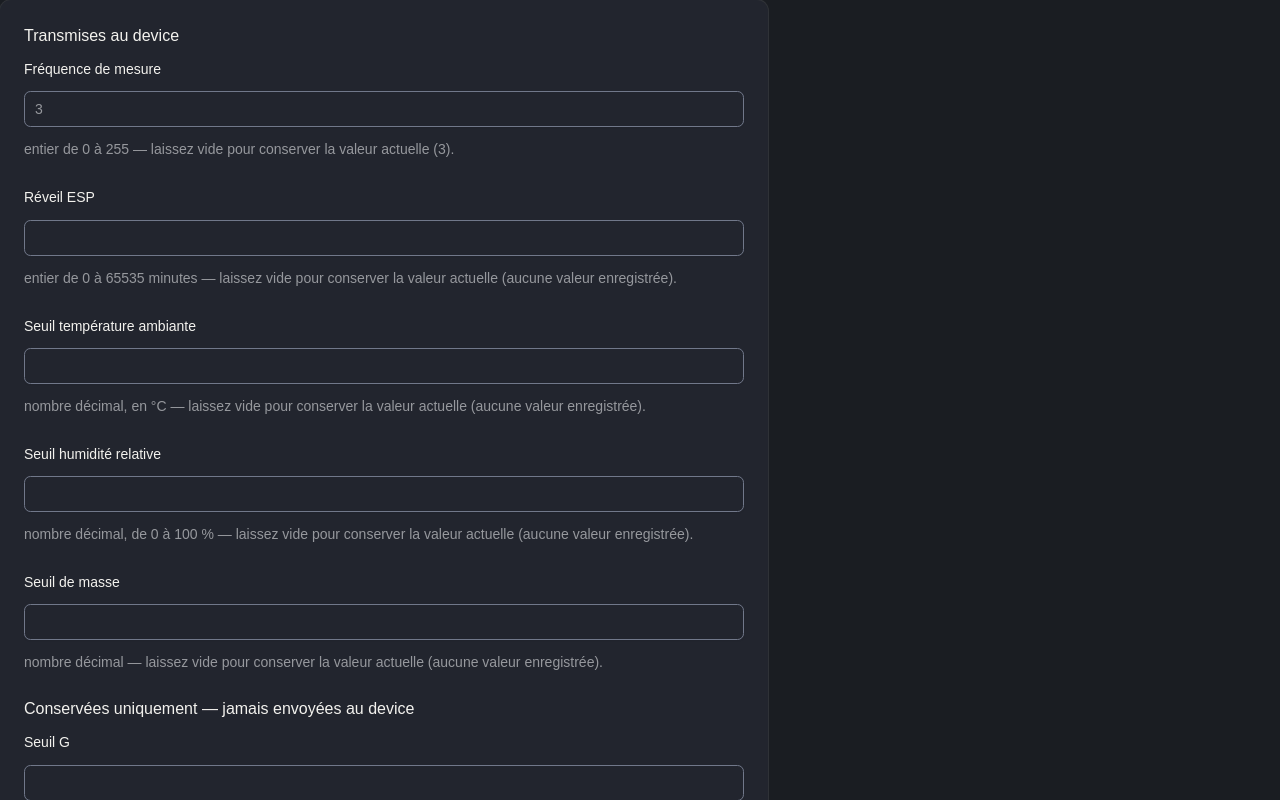
Test: SettingsForm submit (KAN-166 FR11, FR13, FR20) › on acceptance shows a success flash and refreshes the displayed current config (FR11, FR13)
Type "10" into the field with test id "settings-field-FREQ_MESURE_CL" at (384,109), box left=24, top=91, right=744, bottom=127
(page scrolled)
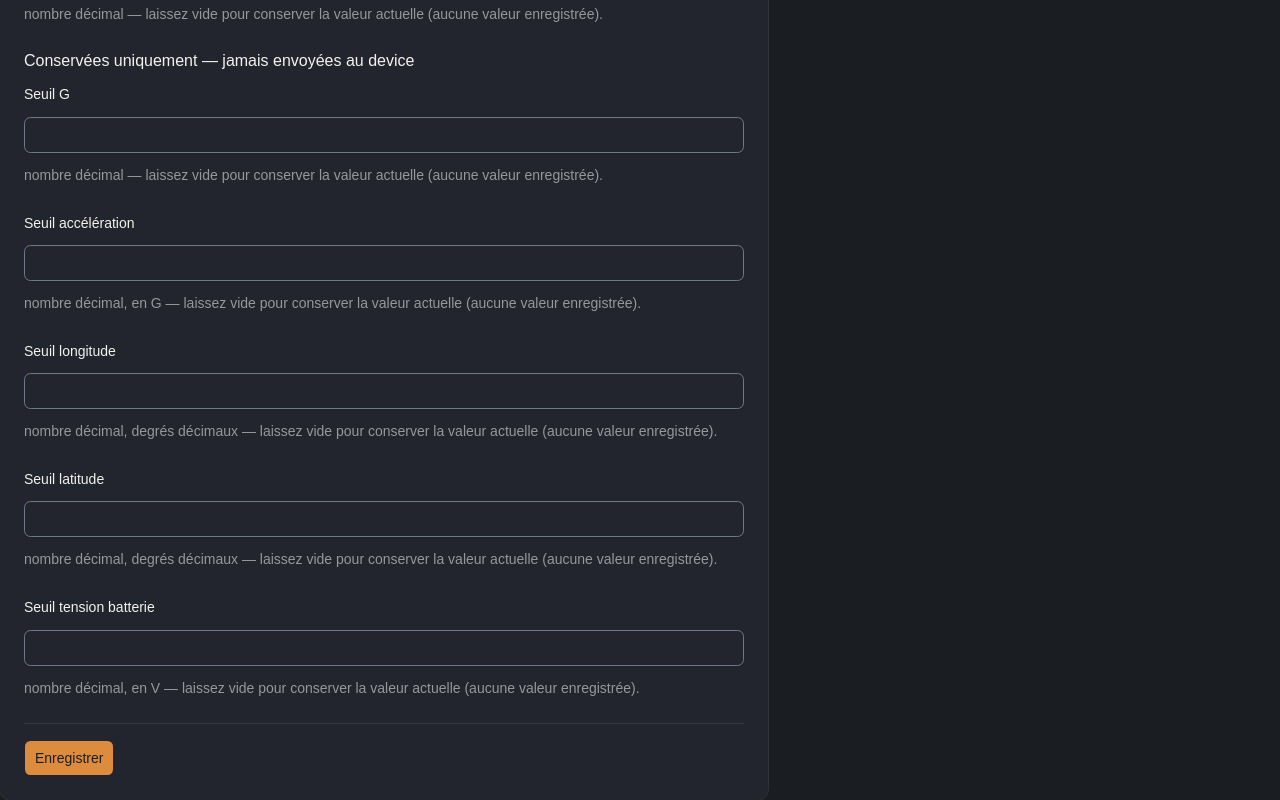
Click the button with test id "settings-form-submit" at (69,758), box left=24, top=740, right=114, bottom=776
(page scrolled)
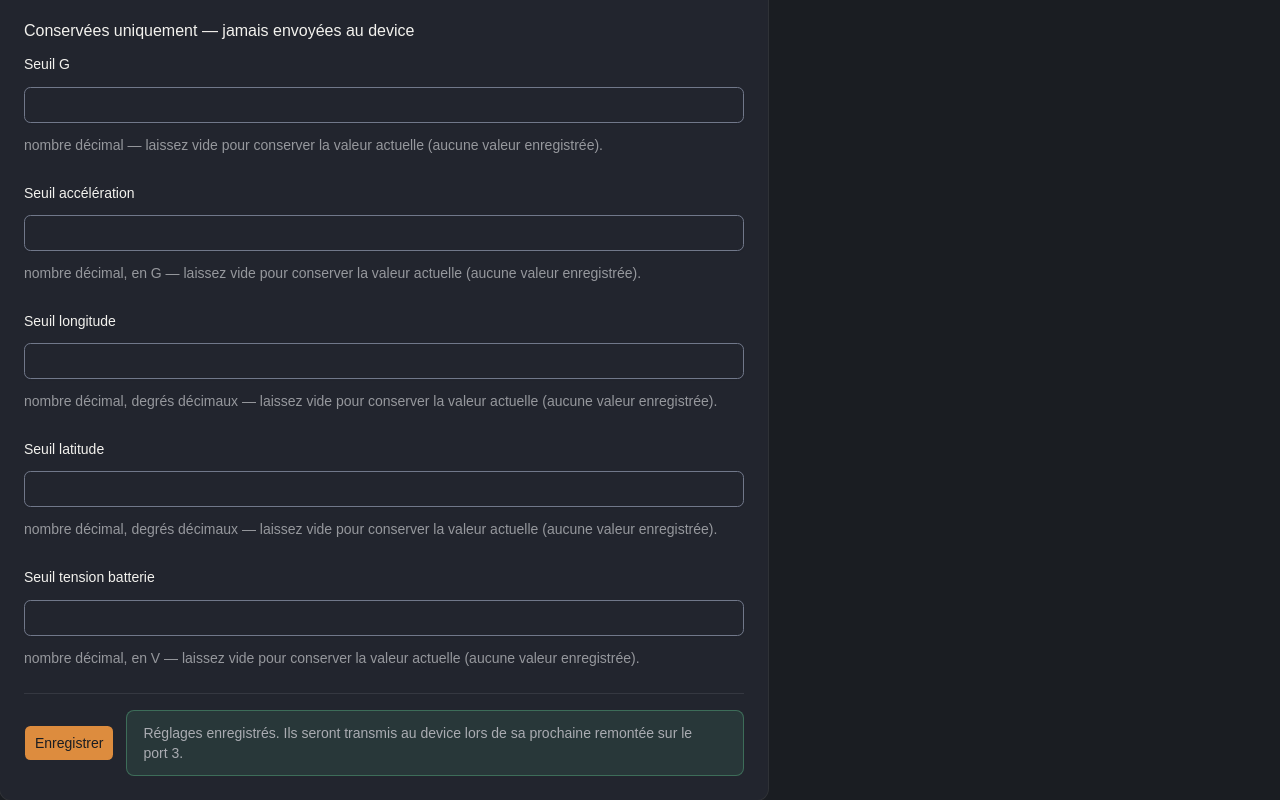
Expected: the message with test id "settings-form-flash" shows "Réglages enregistrés", left=144, top=724, right=692, bottom=760
